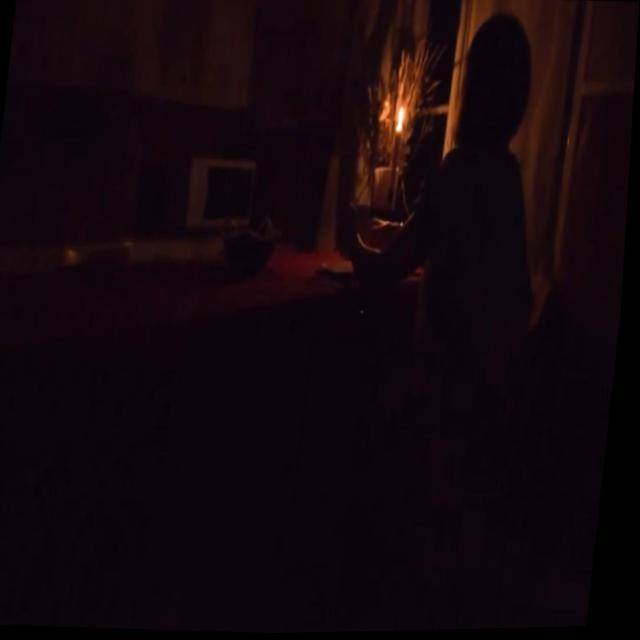fire: (397, 107, 408, 130)
